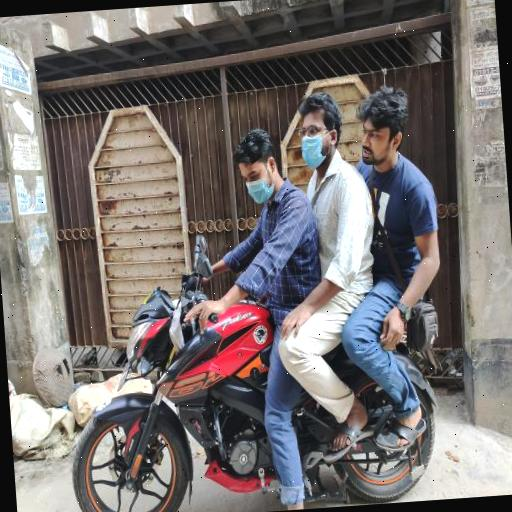no helmet: (214, 112, 297, 232)
triple riding: (38, 67, 491, 512)
